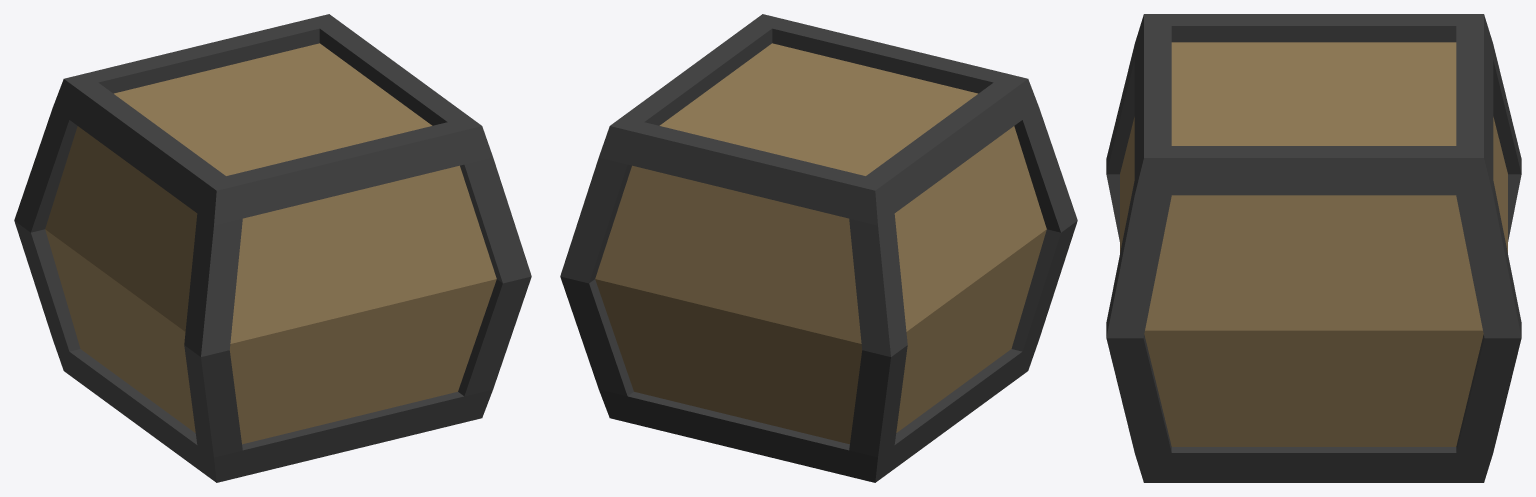
The model's file is Small Box Type 2.fbx.
3 views of the same model, side by side, from view 1: azimuth 30°, elevation 25°; view 2: azimuth 150°, elevation 25°; view 3: azimuth 270°, elevation 25° (orthographic). The views are drawn at different scales.
Parts seen in each view (by area): view 1: Cube.199, Cube.200; view 2: Cube.199, Cube.200; view 3: Cube.199, Cube.200.
Part boxes in pixels (x1=…): Cube.199: x1=45, y1=43, x2=496, y2=444; Cube.200: x1=14, y1=14, x2=531, y2=482; Cube.199: x1=595, y1=43, x2=1046, y2=444; Cube.200: x1=560, y1=14, x2=1077, y2=482; Cube.199: x1=1120, y1=42, x2=1507, y2=446; Cube.200: x1=1106, y1=14, x2=1521, y2=482.
Bounding box in the file's own units: 0.7928 × 0.6692 × 0.7749.
